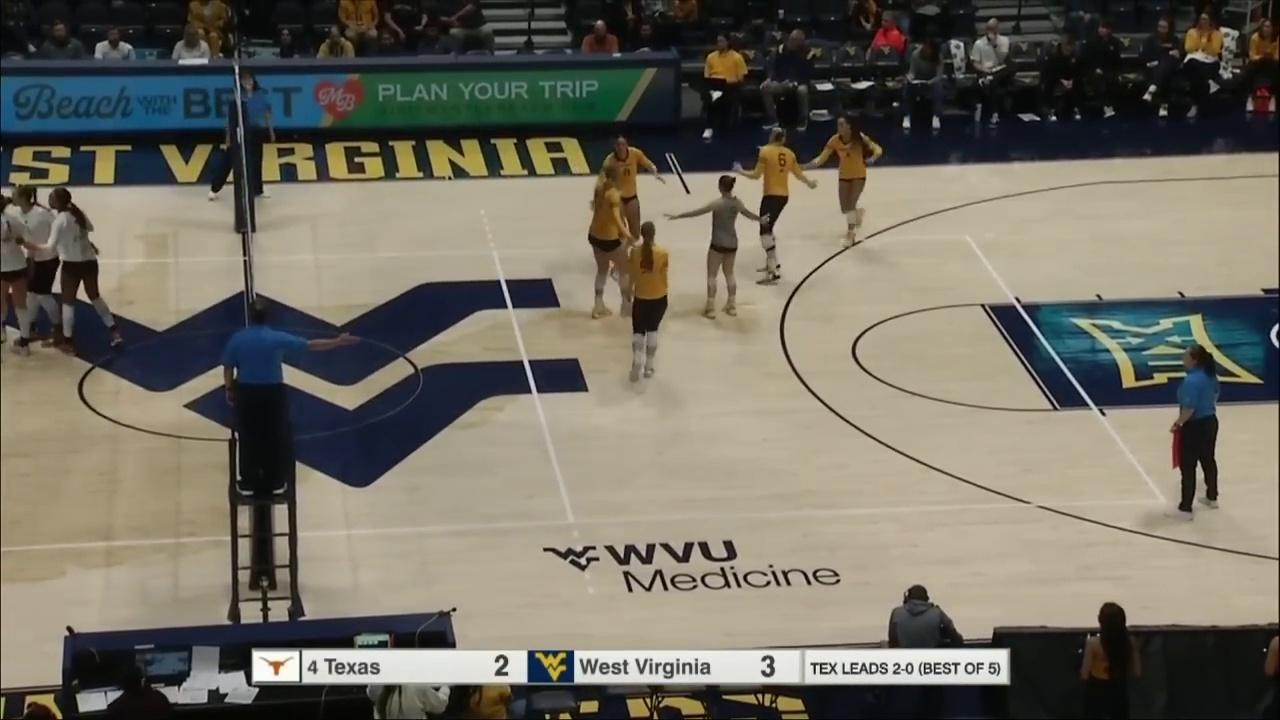player: (673, 172, 760, 319), (52, 189, 125, 353), (731, 132, 809, 280), (813, 119, 882, 253), (623, 222, 672, 389), (586, 167, 637, 317), (13, 187, 62, 343), (600, 136, 654, 275), (0, 195, 38, 359)
refree: (219, 297, 314, 486), (1164, 343, 1227, 523), (207, 70, 273, 199)
